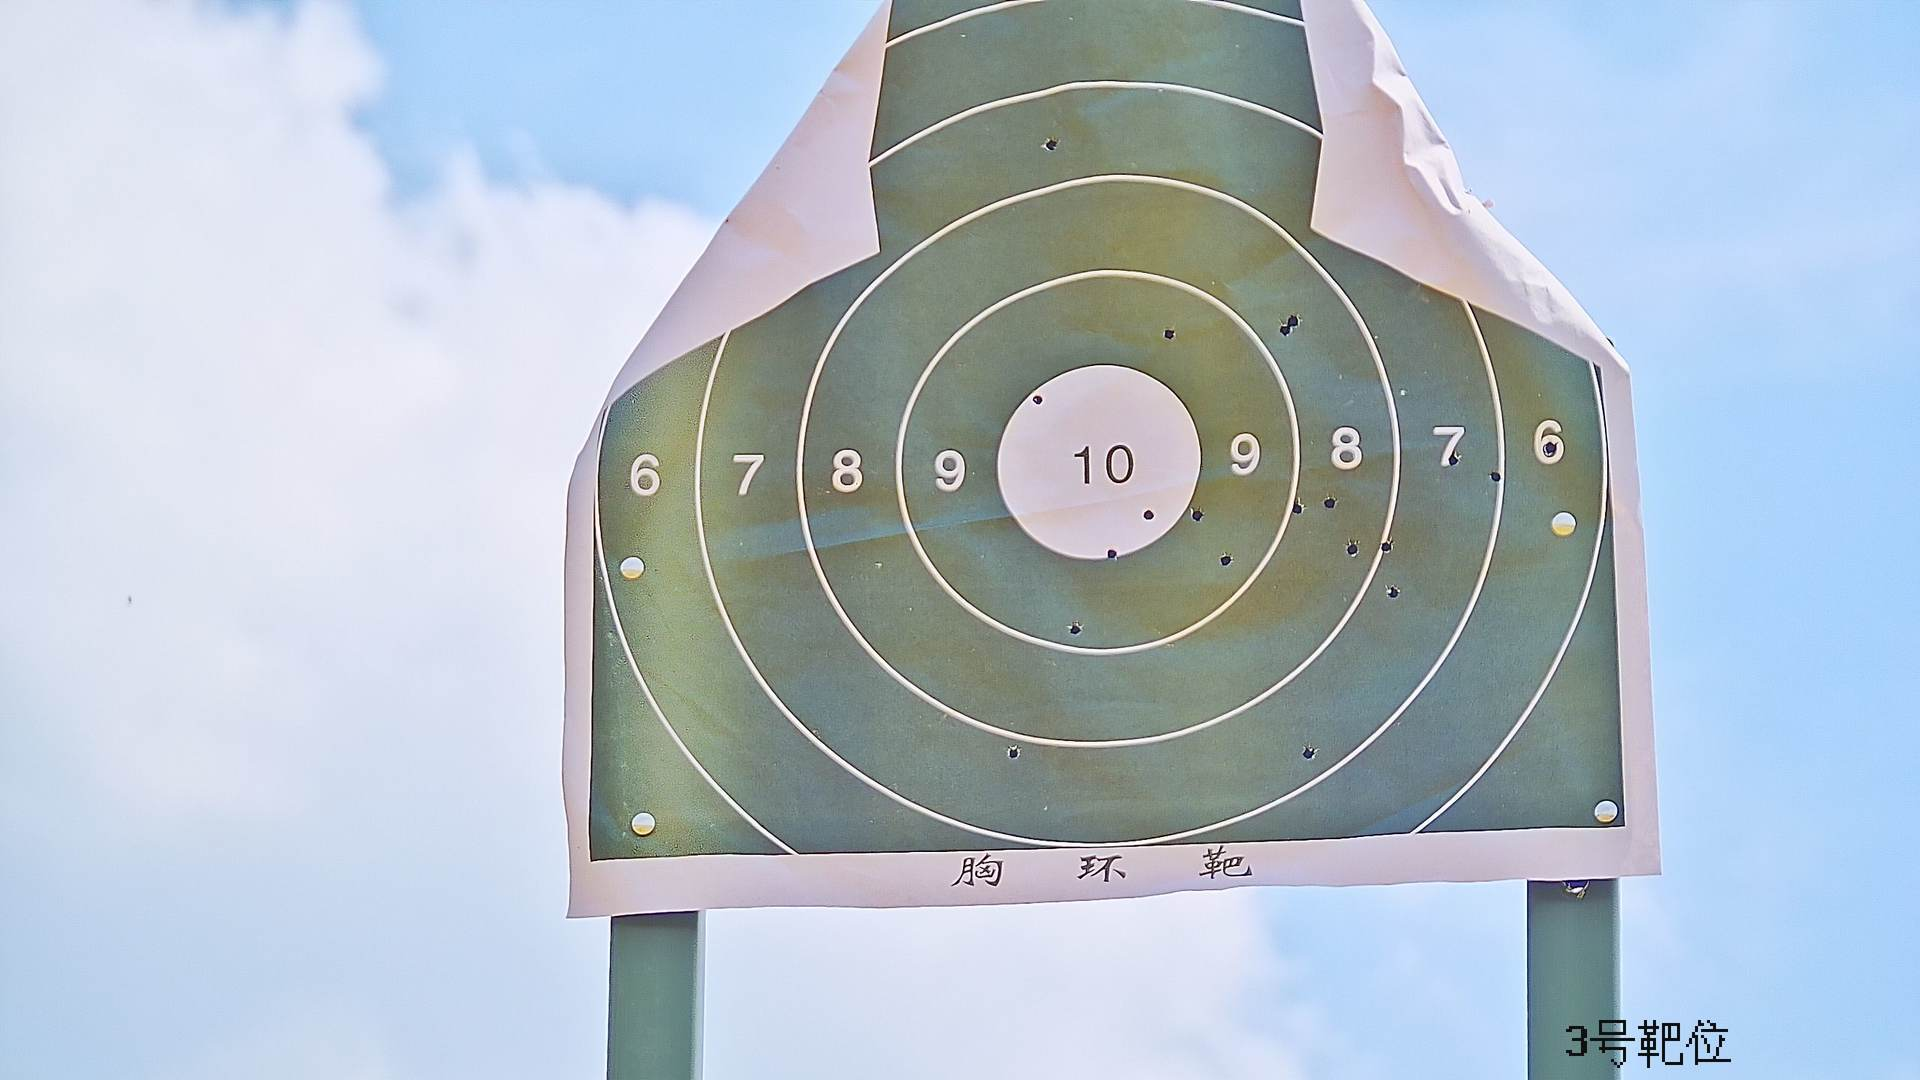hole: (1040, 135, 1058, 152), (1163, 326, 1178, 340), (1286, 314, 1302, 327), (1345, 541, 1358, 556), (1447, 450, 1458, 467), (1191, 506, 1203, 522), (1069, 622, 1083, 636), (1303, 746, 1316, 760), (1542, 440, 1555, 454), (1379, 541, 1394, 553), (1106, 549, 1120, 560), (1220, 553, 1232, 566), (1323, 495, 1336, 506), (1386, 585, 1399, 597), (1291, 502, 1304, 513), (1030, 396, 1042, 406), (1490, 469, 1501, 481), (1009, 746, 1019, 757), (1145, 508, 1154, 520), (1280, 323, 1288, 334)
kernel: (1098, 463, 1105, 465)
target: (584, 3, 1634, 861)
ten: (996, 365, 1203, 564)
